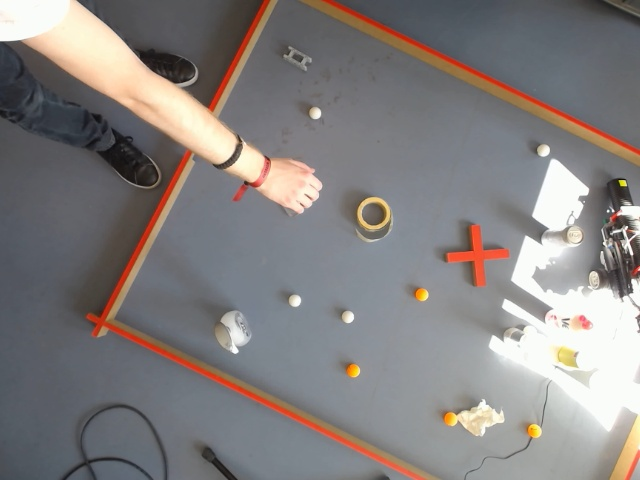orange: (215, 320, 230, 349), (413, 287, 431, 303), (345, 363, 361, 379), (443, 411, 457, 427), (527, 424, 541, 439)
robot: (600, 171, 640, 395)
white: (216, 311, 235, 350), (215, 314, 230, 350), (534, 142, 551, 159), (287, 293, 303, 310), (340, 309, 356, 325), (308, 106, 322, 121), (589, 270, 599, 285)
